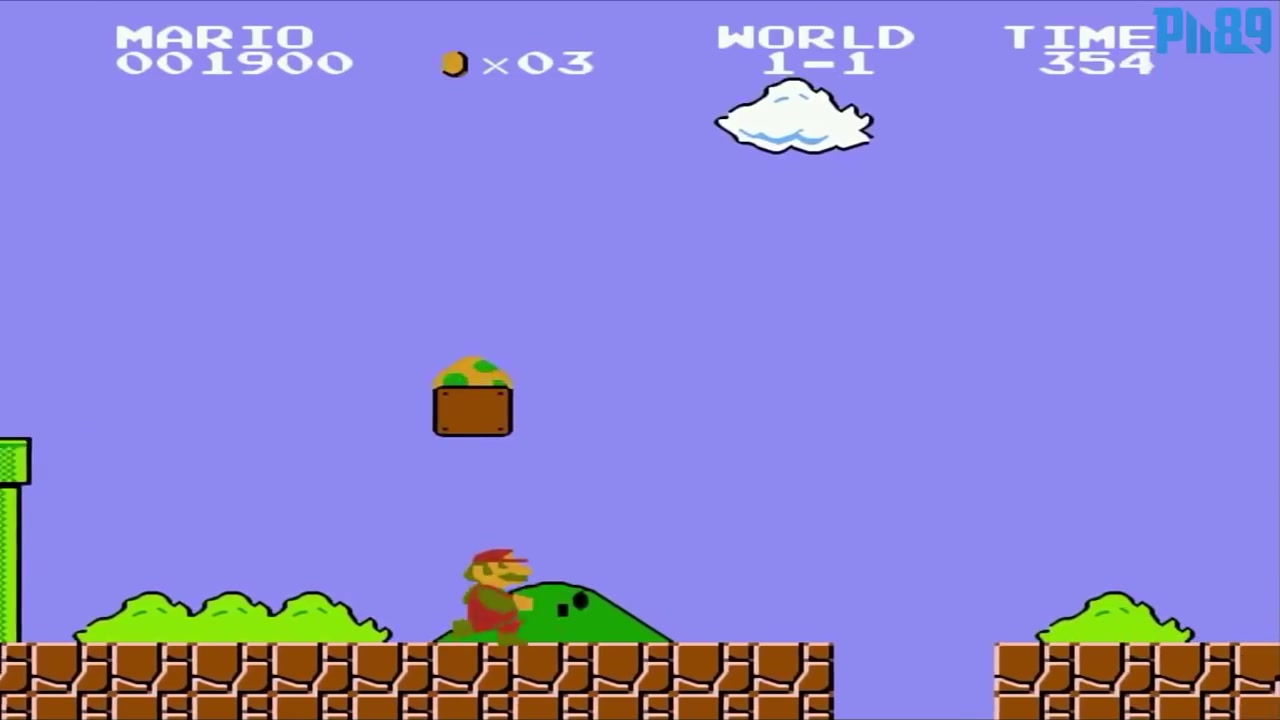mario: (452, 544, 531, 643)
